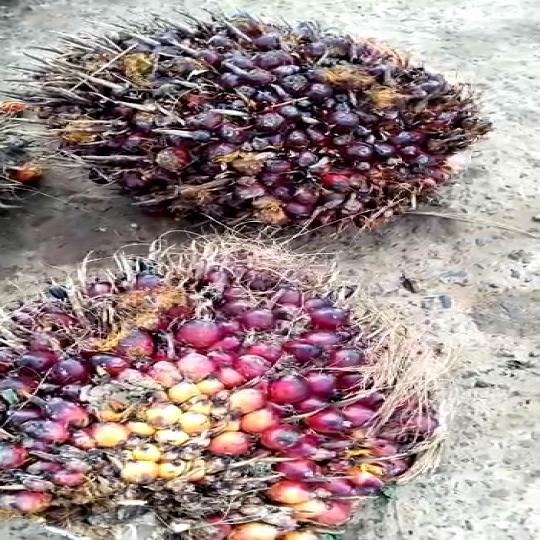masak: (0, 233, 443, 540), (0, 12, 535, 247)
